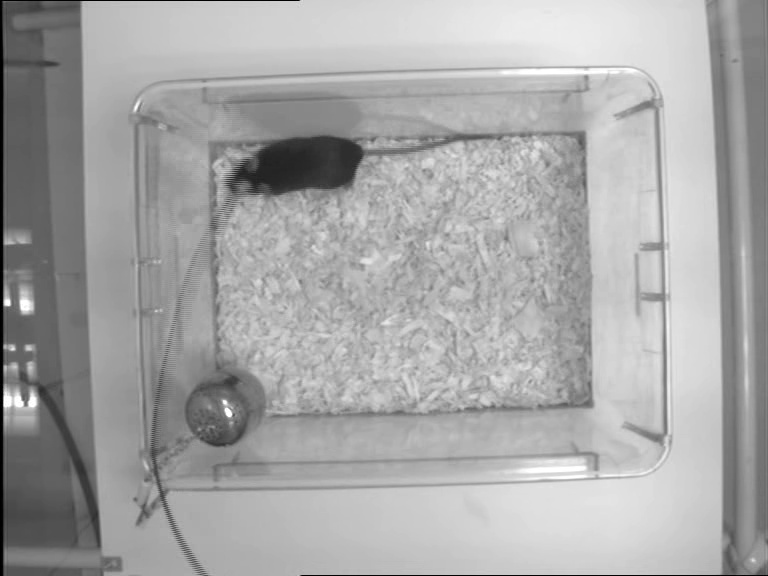mice: (221, 129, 509, 200)
